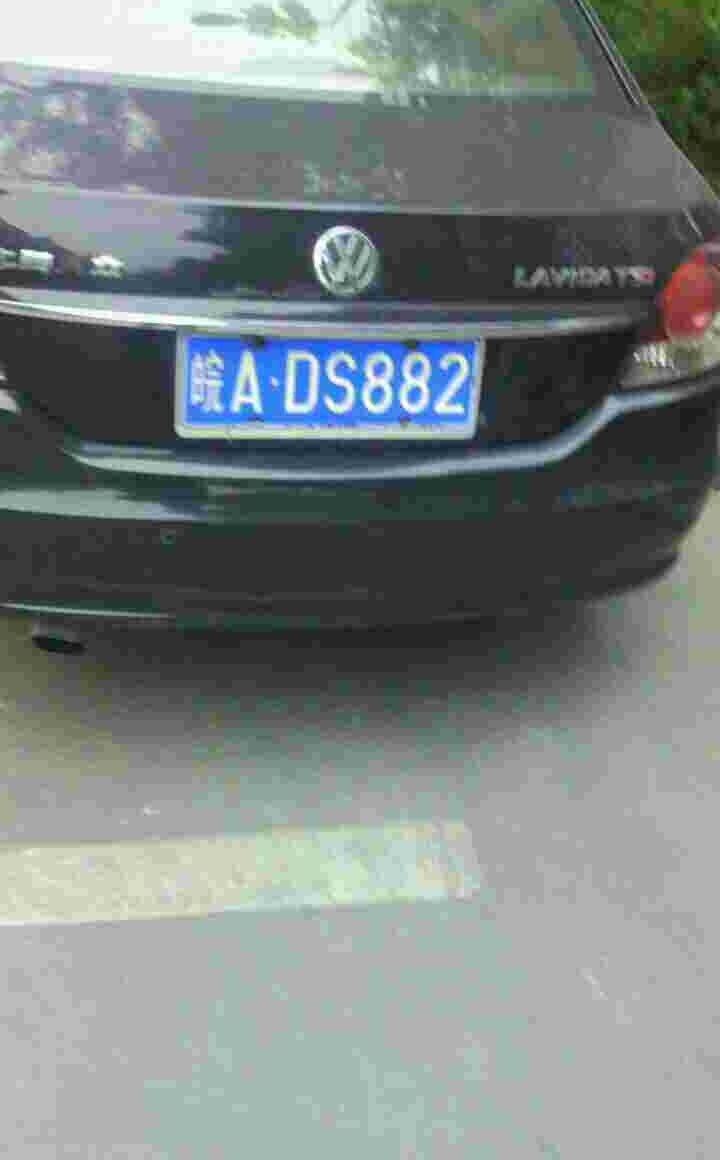license_plate: (186, 342, 477, 427)
